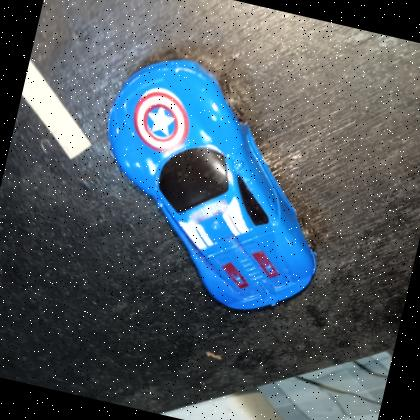Car: (106, 56, 317, 310)
